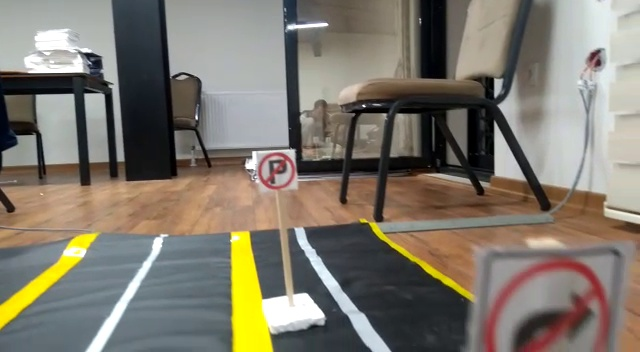park_yapilmaz: (254, 151, 299, 192)
saga_donulmez: (481, 251, 619, 352)
